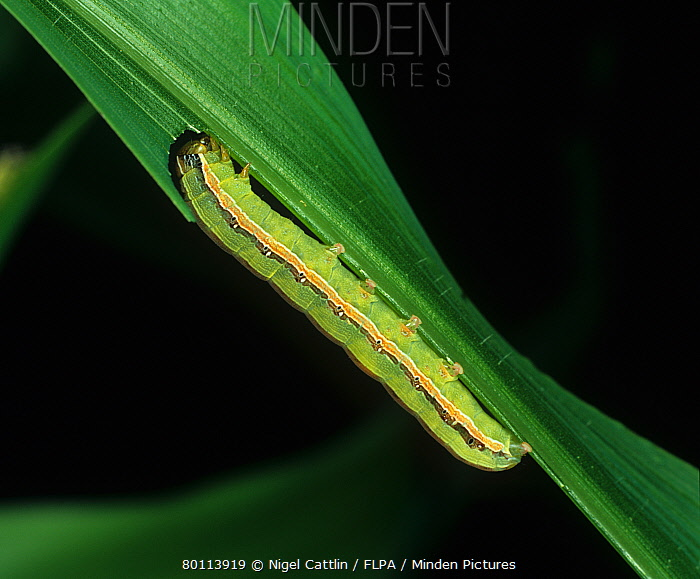Armyworm: (165, 118, 549, 494)
